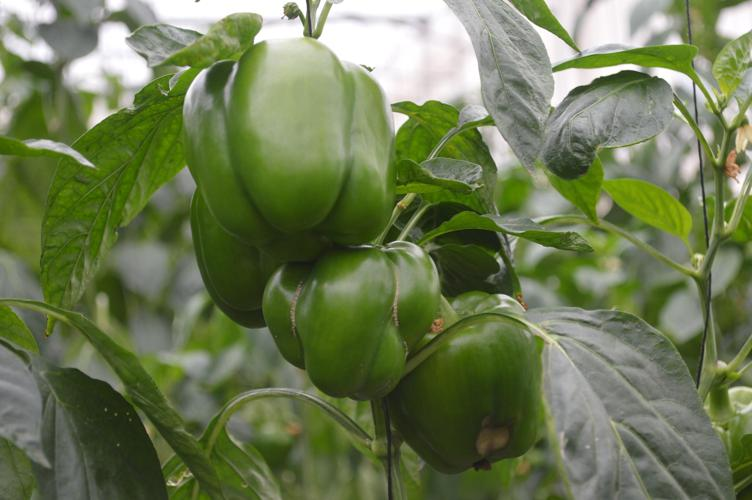BellPepper: (163, 46, 376, 259), (264, 254, 419, 409), (407, 300, 558, 451)
